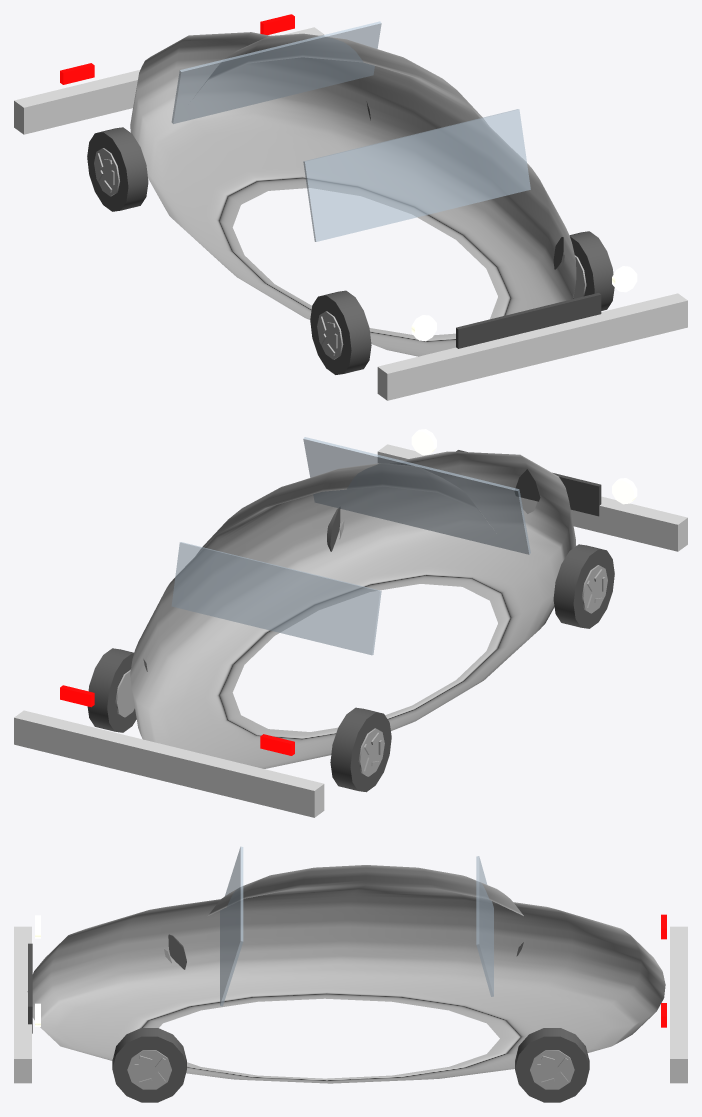
File: sedan.glb
The picture shows the model from 3 angles, top to bottom: view 1: azimuth 30°, elevation 25°; view 2: azimuth 150°, elevation 25°; view 3: azimuth 270°, elevation 25°; orthographic projection. The views are drawn at different scales.
Visible parts, largest first — view 1: SedanBody, windshield, front_bumper, rear_window, rear_bumper, wheel_FL, wheel_RL, grille, wheel_FR; view 2: SedanBody, rear_window, windshield, rear_bumper, front_bumper, wheel_RL, wheel_FL, wheel_RR, grille; view 3: SedanBody, wheel_FR, wheel_RR, rear_bumper, front_bumper, windshield, rear_window, wheel_FL, grille.
Boxes of the visible parts, <box> form: SedanBody: <box>130,32,576,356</box>; windshield: <box>303,109,530,241</box>; front_bumper: <box>377,293,687,400</box>; rear_window: <box>171,21,381,123</box>; rear_bumper: <box>14,27,324,134</box>; wheel_FL: <box>310,290,371,374</box>; wheel_RL: <box>87,127,148,211</box>; grille: <box>456,293,601,348</box>; wheel_FR: <box>553,231,614,310</box>; SedanBody: <box>130,451,576,768</box>; rear_window: <box>171,542,381,655</box>; windshield: <box>303,437,530,554</box>; rear_bumper: <box>14,710,324,817</box>; front_bumper: <box>377,444,687,551</box>; wheel_RL: <box>330,707,391,792</box>; wheel_FL: <box>553,544,614,628</box>; wheel_RR: <box>87,648,147,732</box>; grille: <box>456,450,601,516</box>; SedanBody: <box>27,865,665,1083</box>; wheel_FR: <box>112,1028,186,1102</box>; wheel_RR: <box>515,1028,589,1102</box>; rear_bumper: <box>670,926,687,1083</box>; front_bumper: <box>14,926,31,1083</box>; windshield: <box>220,846,243,1006</box>; rear_window: <box>476,856,493,996</box>; wheel_FL: <box>164,934,186,969</box>; grille: <box>28,943,32,1033</box>.
Bounding box in the file's own units: 2.1 × 1.12 × 4.52.
